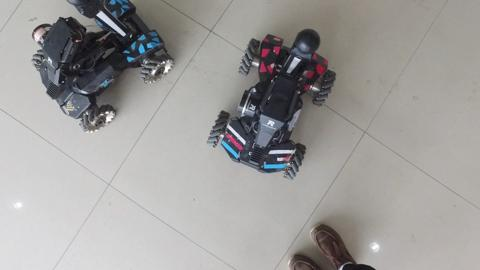chariot: (20, 1, 184, 138), (205, 24, 344, 183)
